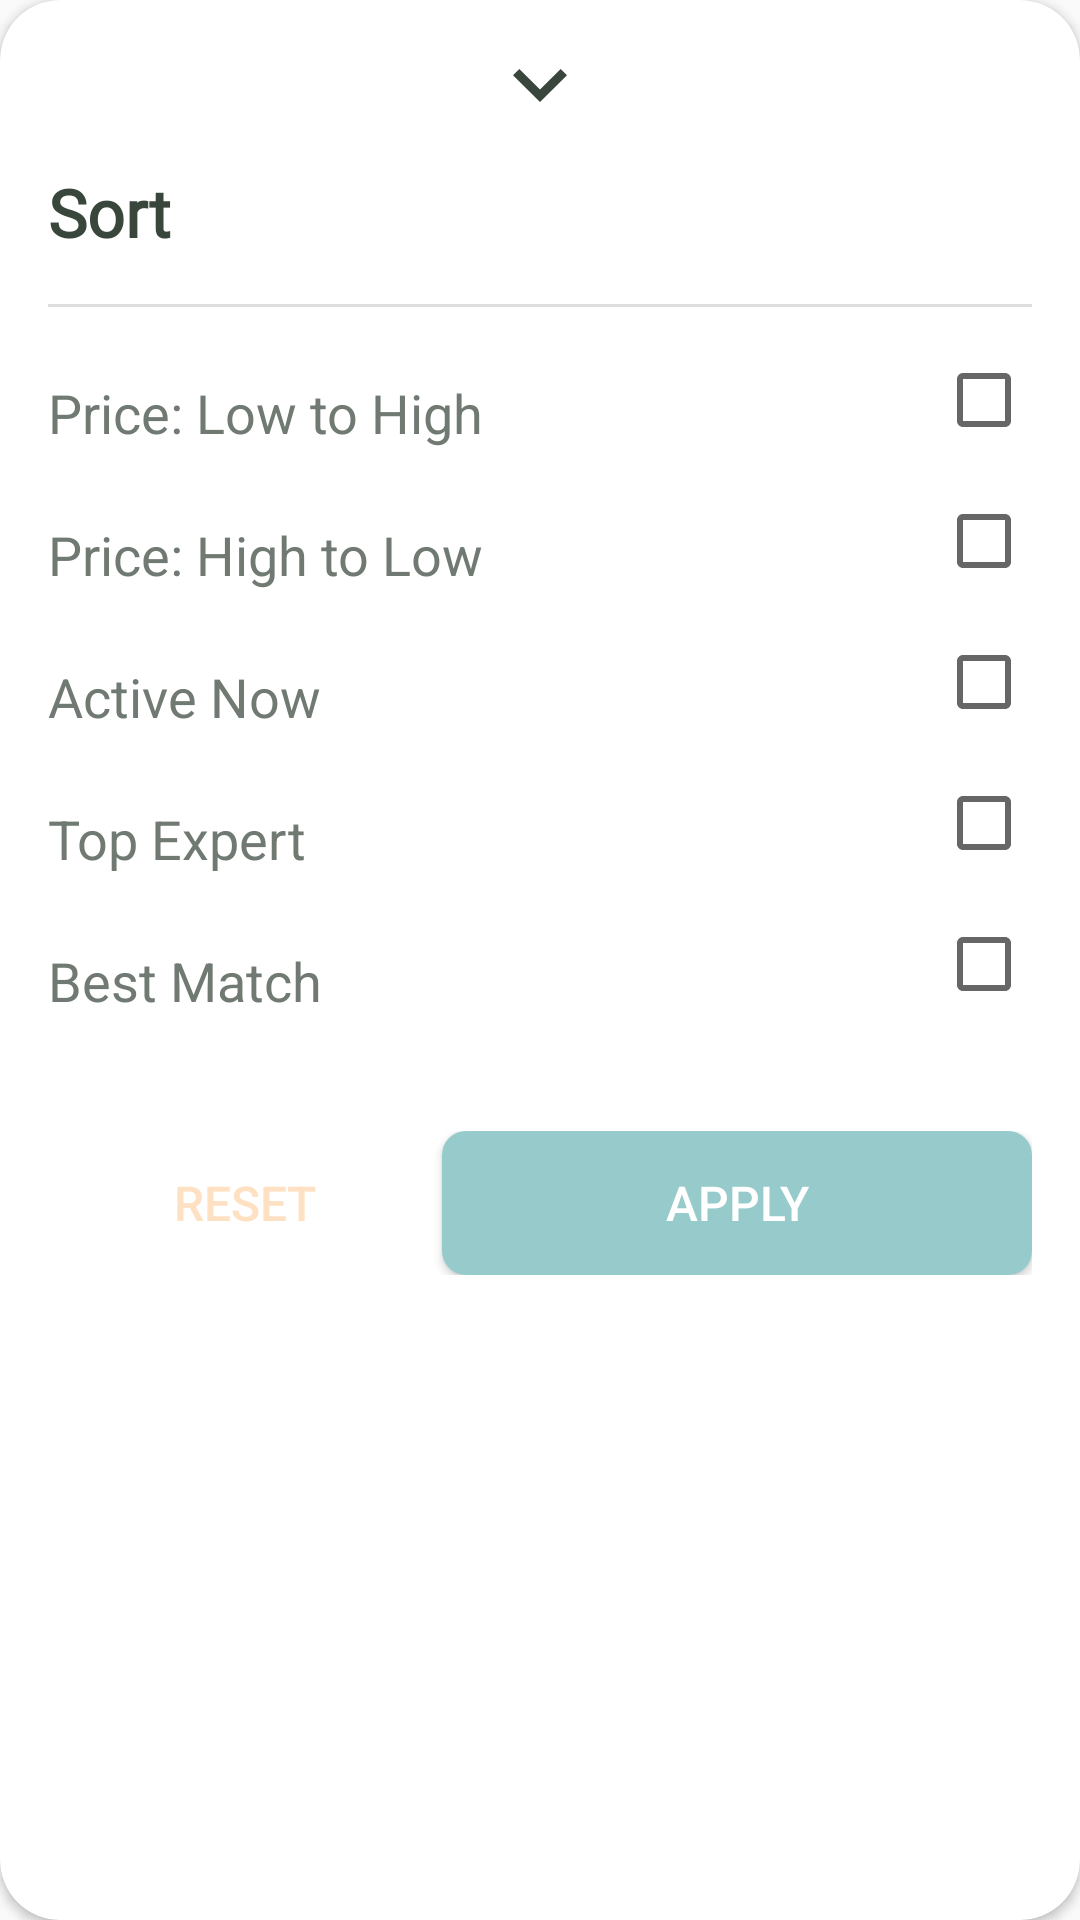

Screen size 1080px x 1920px. Icon name, then its box in pixels as bbox=[x1, y1, x2, y2]:
downside arrow: bbox=[513, 69, 567, 102]
